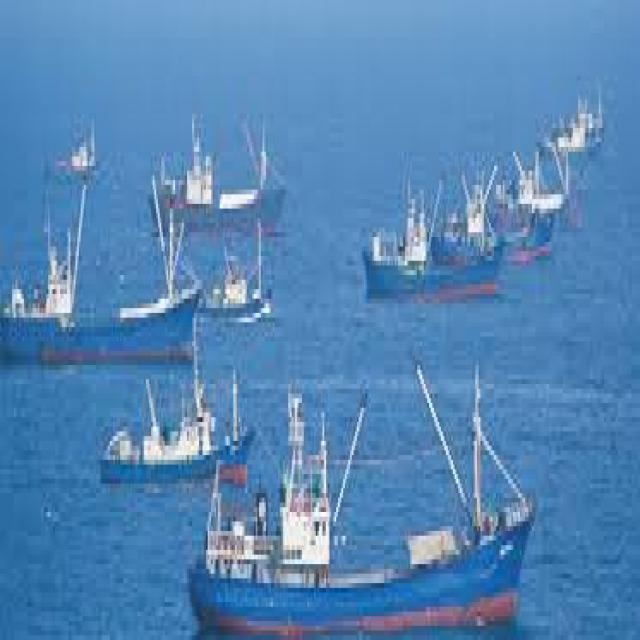Ship: (194, 375, 543, 640), (1, 181, 207, 395), (138, 115, 296, 267), (95, 366, 262, 499), (356, 181, 516, 309)
